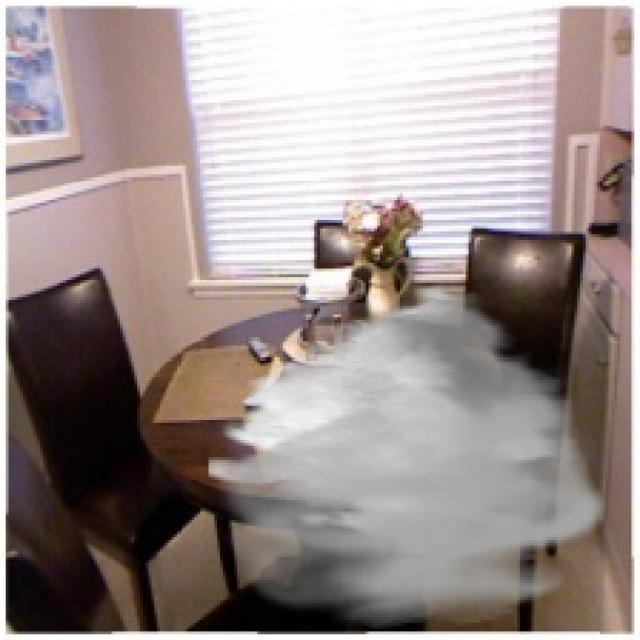smoke: (208, 283, 612, 628)
